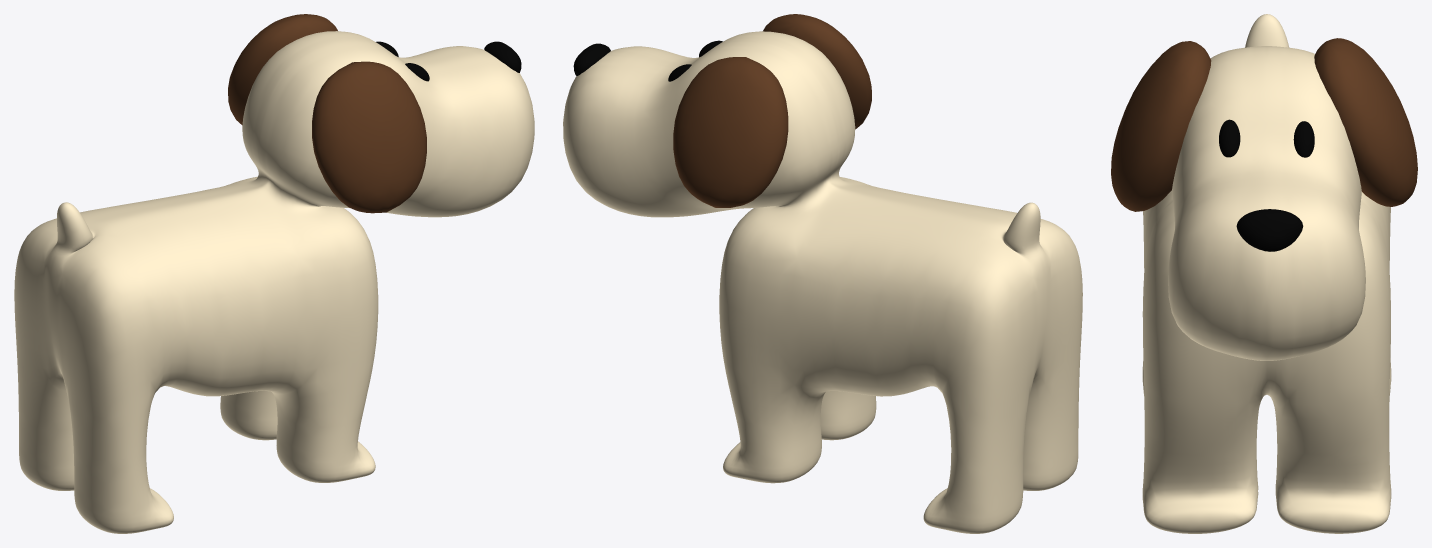
File: Tobey.gltf
The picture shows the model from 3 angles, left to right: view 1: azimuth 30°, elevation 25°; view 2: azimuth 150°, elevation 25°; view 3: azimuth 270°, elevation 25°; orthographic projection. The views are drawn at different scales.
Visible parts, largest first — view 1: Cube, Sphere (×3); view 2: Cube, Sphere (×3); view 3: Cube, Sphere (×5).
Boxes of the visible parts, x1,y1,x2,y2 form: Cube: (14,31,534,533); Sphere (×3): (228,14,521,213); Cube: (563,31,1082,533); Sphere (×3): (573,14,871,207); Cube: (1142,14,1391,533); Sphere (×5): (1111,38,1417,251).
Bounding box in the file's own units: 7.25 × 5.95 × 3.37.
